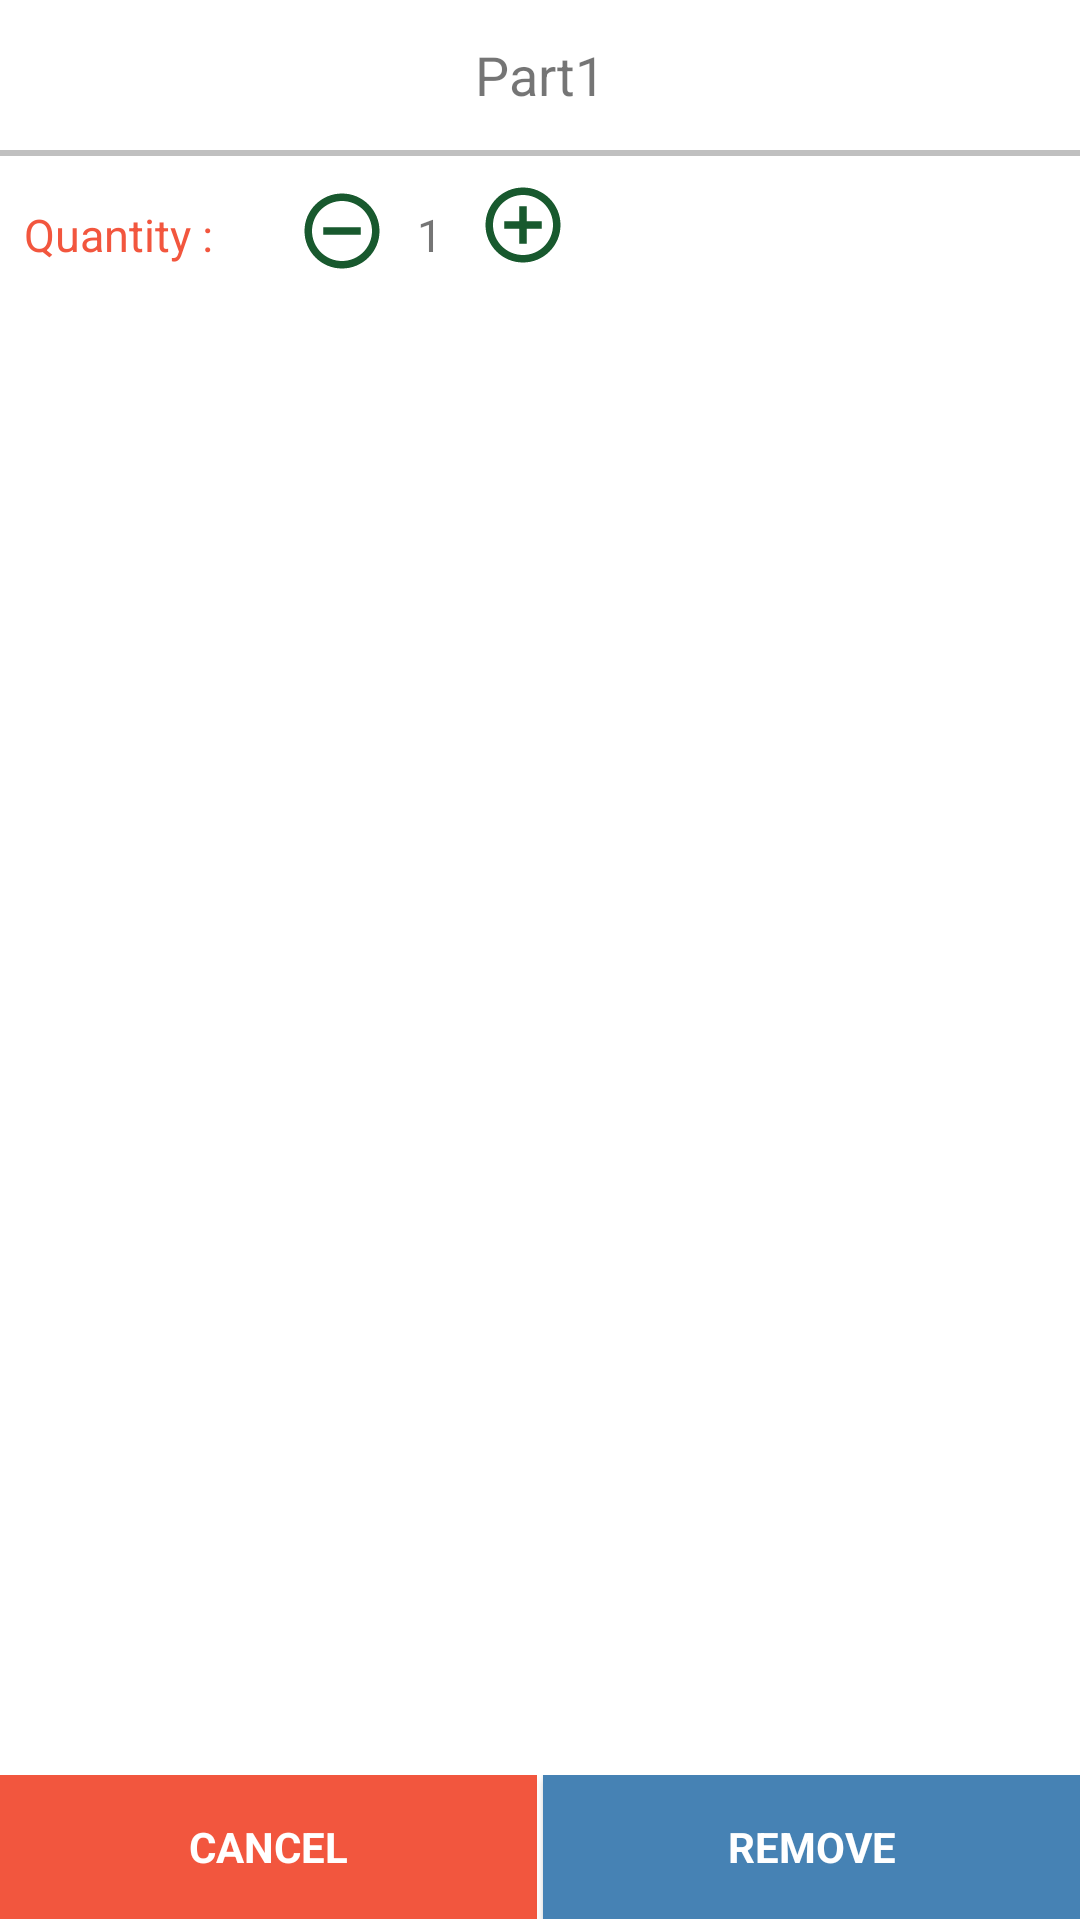

Icon click points for this 1080px x 1920px phone screenshot, format (x=x, y=y):
add circle: (x=523, y=225)
remove circle: (x=342, y=231)
